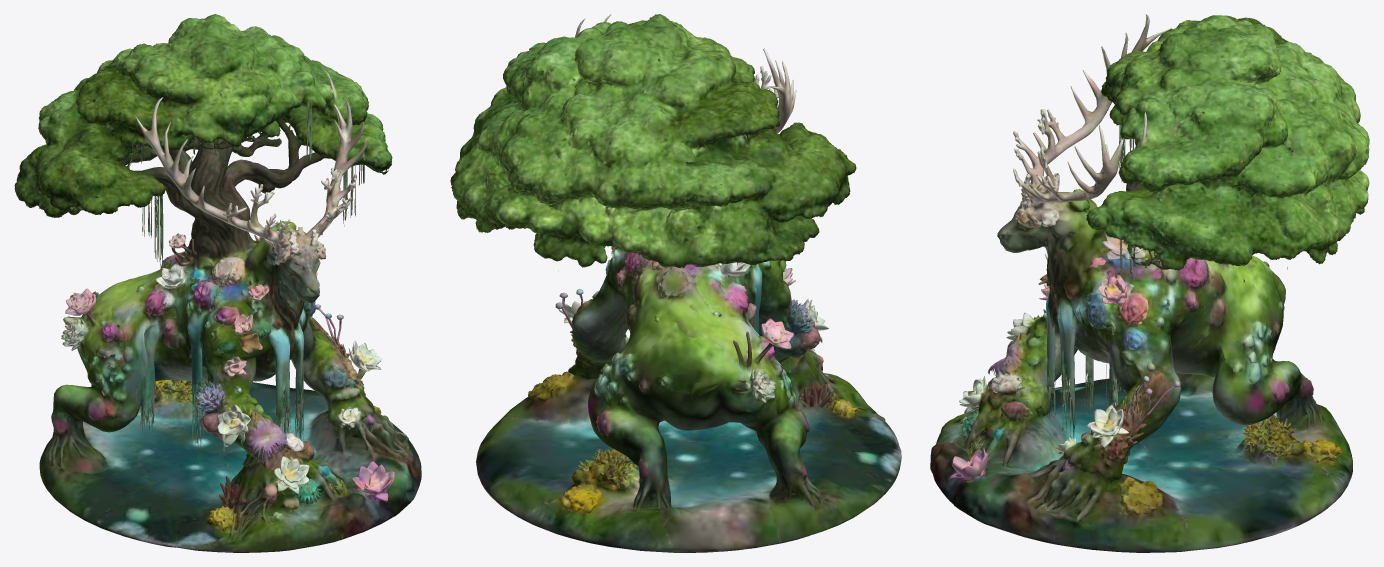
The model's file is mini_tg06.glb.
3 views of the same model, side by side, from view 1: azimuth 30°, elevation 25°; view 2: azimuth 150°, elevation 25°; view 3: azimuth 270°, elevation 25° (orthographic). The views are drawn at different scales.
Size of the model in its own units: 1.58 by 1.9 by 1.7.
1 material, 1 textured.
